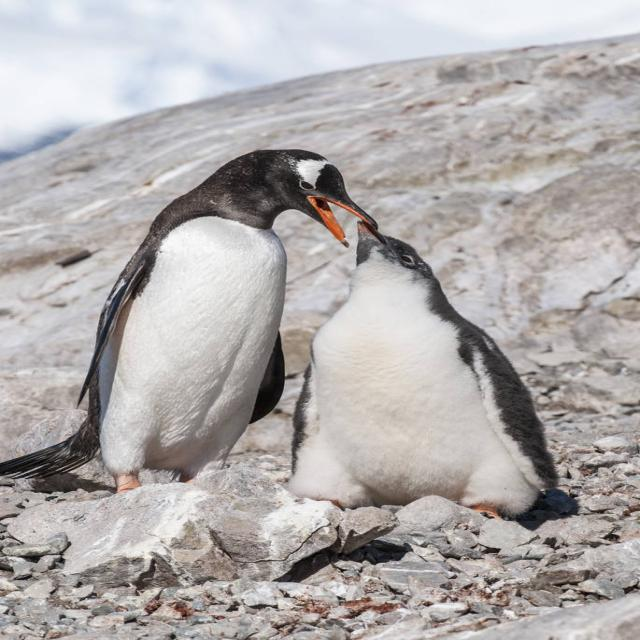Penguins: (71, 108, 334, 506), (306, 215, 564, 521)
